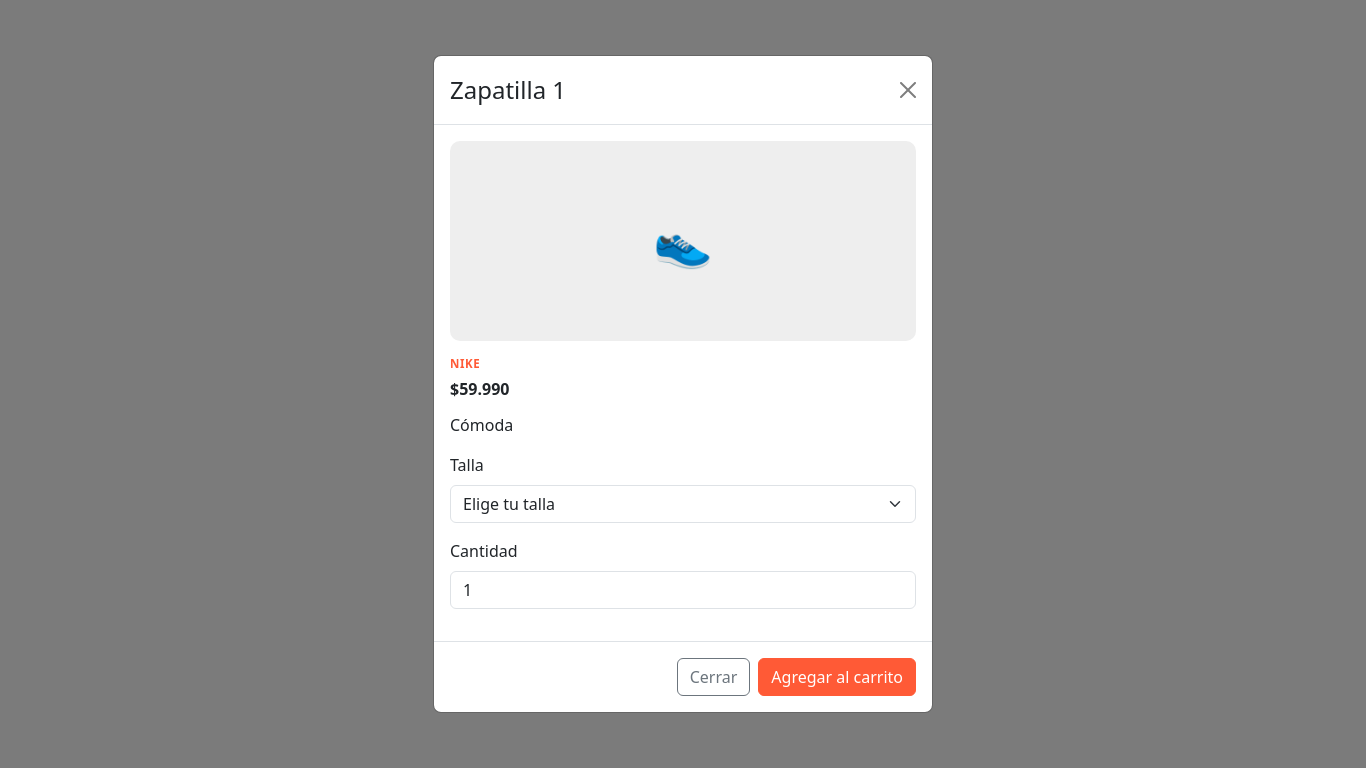
Test: ProductDetailModal › agrega al carrito cuando hay talla seleccionada
Select "41" in the dropdown labelled "Talla" at [683, 504], box x1=450 y1=485 x2=916 y2=523
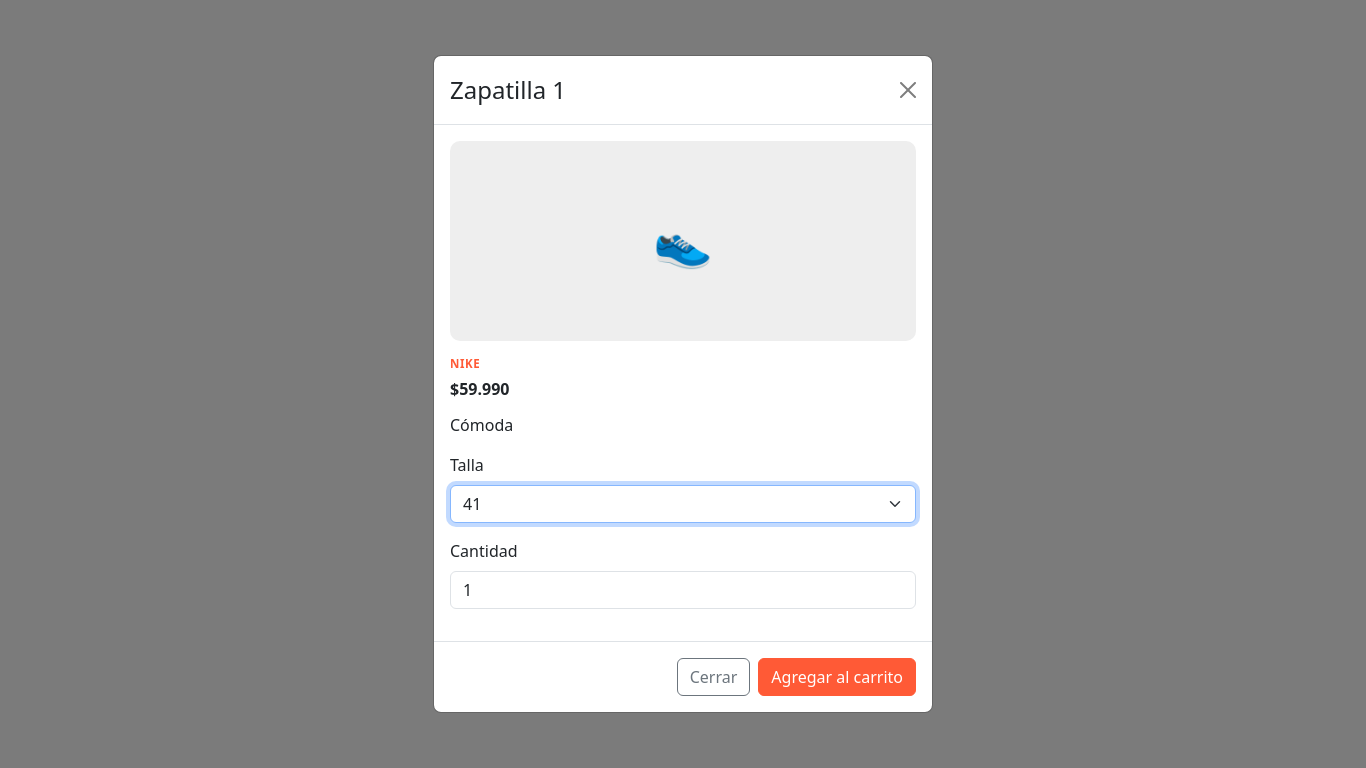
Click the button "Agregar al carrito".
click(837, 677)  # box x1=758 y1=658 x2=916 y2=696
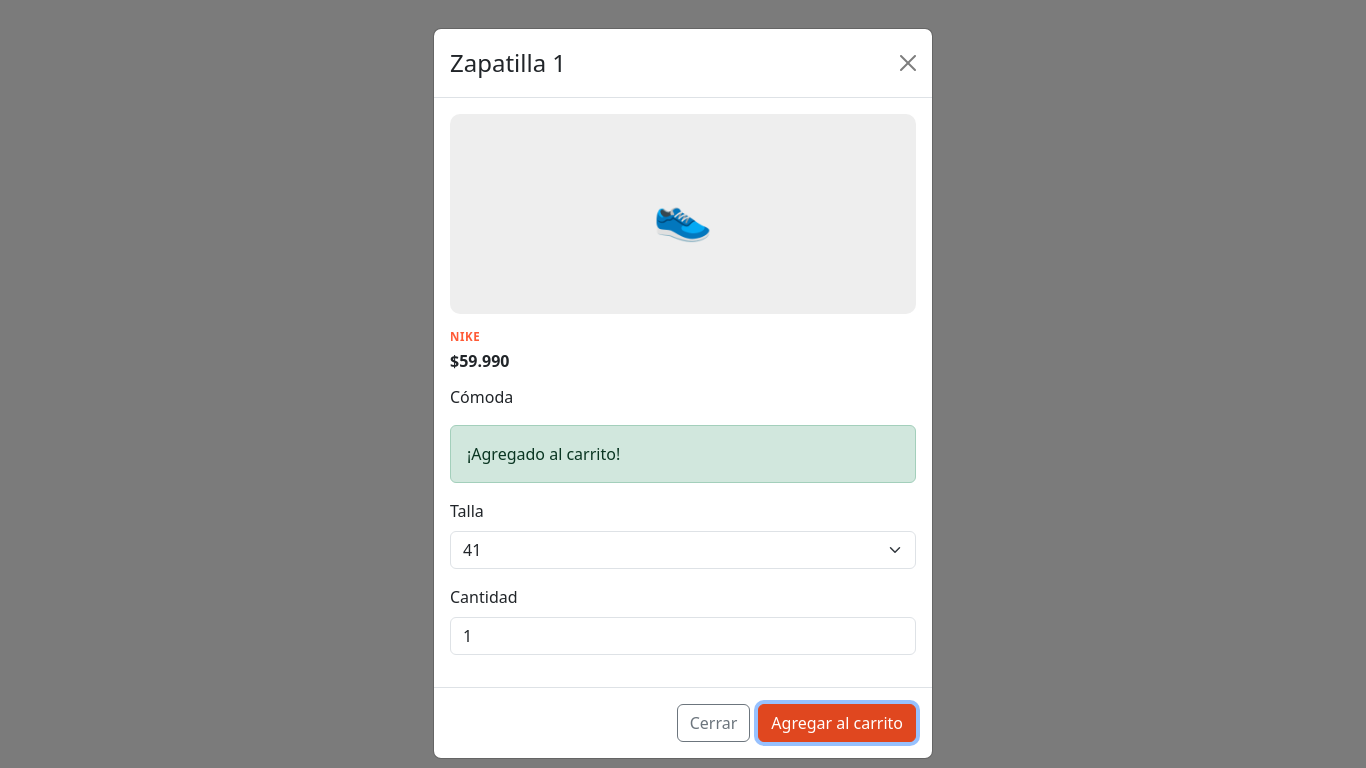
expect the text "¡Agregado al carrito!" is shown: met, box x1=450 y1=425 x2=916 y2=483
